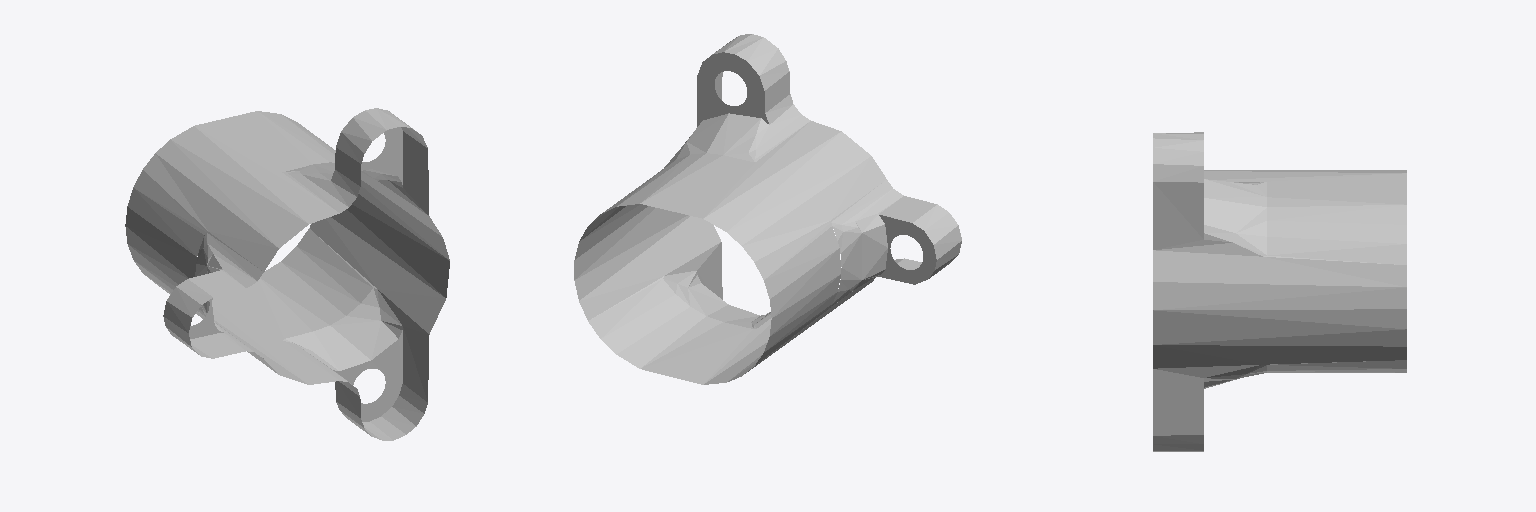
File: motor_support_tr.obj
The picture shows the model from 3 angles: view 1: azimuth 30°, elevation 25°; view 2: azimuth 150°, elevation 25°; view 3: azimuth 270°, elevation 25°; orthographic projection.
Size of the model in its own units: 0.0476 by 0.0543 by 0.04.